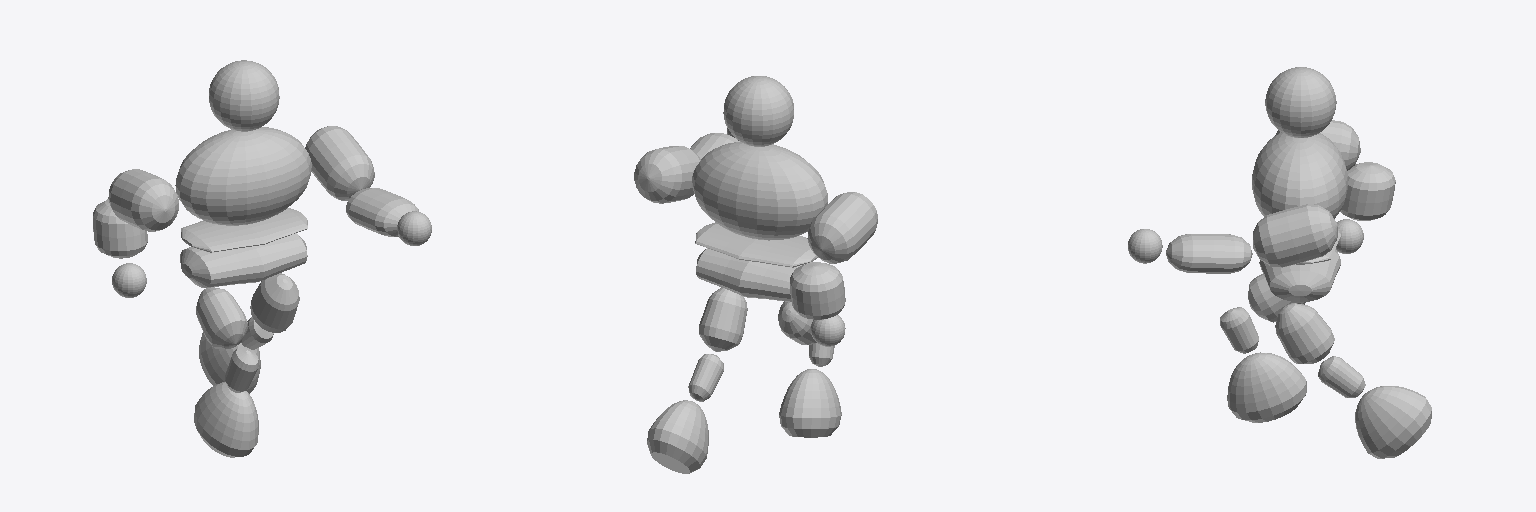
File: PTwo6.obj
3 views of the same model, side by side, from view 1: azimuth 30°, elevation 25°; view 2: azimuth 150°, elevation 25°; view 3: azimuth 270°, elevation 25° (orthographic).
Size of the model in its own units: 4.05 by 6.12 by 4.57.